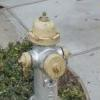Hydrant: (14, 4, 78, 100)
